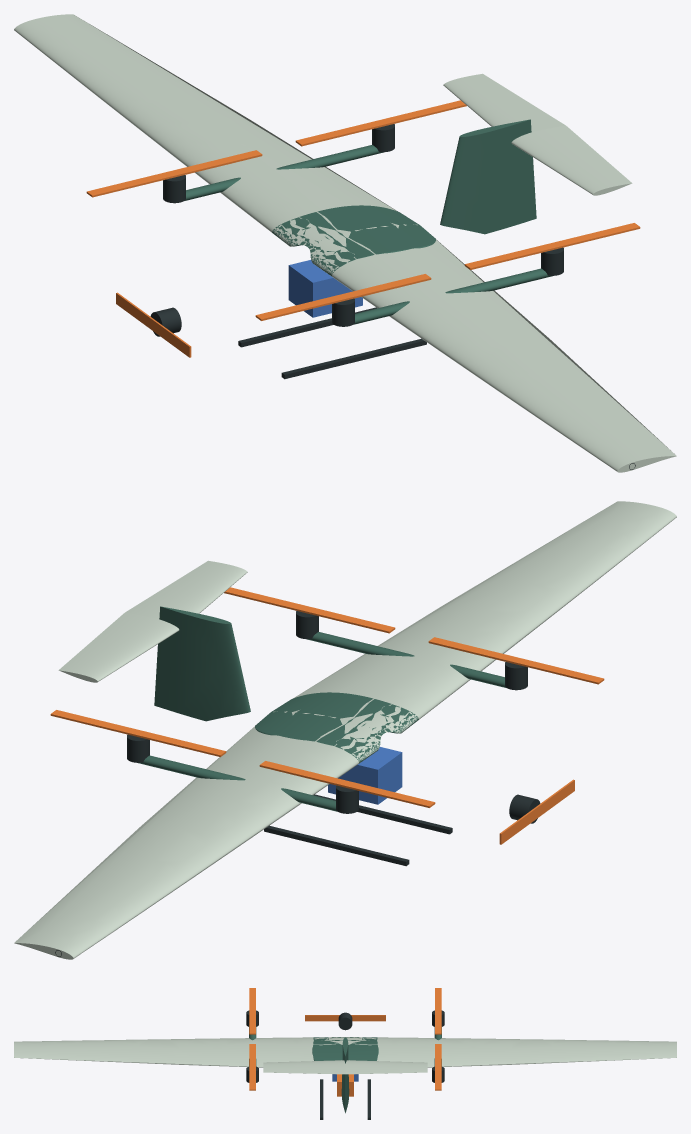
Rendered from surface_tools-02-internal.glb.
3 renders of one model, top to bottom at view 1: azimuth 30°, elevation 25°; view 2: azimuth 150°, elevation 25°; view 3: azimuth 270°, elevation 25°, orthographic. The views are drawn at different scales.
Visible parts, largest first — view 1: wing-1, wing1, fin, tail-1, tail1, root_fairing-1, root_fairing1, payload, boom_fairing-1, boom_fairing1, prop_1_200.0, prop_-1_200.0 (+5 smaller); view 2: wing1, wing-1, fin, tail1, tail-1, root_fairing1, root_fairing-1, payload, boom_fairing1, boom_fairing-1, prop_-1_200.0, prop_1_200.0 (+5 smaller); view 3: wing-1, wing1, tail-1, tail1, root_fairing-1, root_fairing1, cruise_prop, fin, prop_-1_200.0, prop_-1_700.0, prop_1_200.0, prop_1_700.0 (+2 smaller).
Boxes of the visible parts, left/top/right/bottom form: wing-1: left=309, top=225, right=676, bottom=472; wing1: left=14, top=14, right=417, bottom=246; fin: left=440, top=119, right=536, bottom=234; tail-1: left=511, top=125, right=632, bottom=195; tail1: left=443, top=73, right=565, bottom=131; root_fairing-1: left=308, top=225, right=435, bottom=276; root_fairing1: left=272, top=205, right=419, bottom=246; payload: left=288, top=260, right=362, bottom=317; boom_fairing-1: left=353, top=268, right=552, bottom=324; boom_fairing1: left=184, top=145, right=383, bottom=200; prop_1_200.0: left=86, top=150, right=262, bottom=197; prop_-1_200.0: left=255, top=274, right=431, bottom=320; wing1: left=14, top=712, right=381, bottom=959; wing-1: left=273, top=501, right=676, bottom=733; fin: left=154, top=606, right=250, bottom=721; tail1: left=58, top=612, right=179, bottom=682; tail-1: left=125, top=560, right=247, bottom=618; root_fairing1: left=255, top=712, right=382, bottom=763; root_fairing-1: left=271, top=692, right=418, bottom=733; payload: left=328, top=747, right=402, bottom=804; boom_fairing1: left=138, top=755, right=337, bottom=811; boom_fairing-1: left=307, top=632, right=506, bottom=687; prop_-1_200.0: left=428, top=637, right=604, bottom=684; prop_1_200.0: left=259, top=761, right=435, bottom=807; wing-1: left=14, top=1037, right=345, bottom=1067; wing1: left=346, top=1037, right=676, bottom=1067; tail-1: left=263, top=1060, right=345, bottom=1074; tail1: left=345, top=1060, right=427, bottom=1074; root_fairing-1: left=312, top=1037, right=345, bottom=1060; root_fairing1: left=346, top=1037, right=378, bottom=1060; cruise_prop: left=305, top=1015, right=385, bottom=1021; fin: left=341, top=1037, right=349, bottom=1113; prop_-1_200.0: left=249, top=988, right=255, bottom=1034; prop_-1_700.0: left=249, top=1044, right=255, bottom=1090; prop_1_200.0: left=435, top=988, right=441, bottom=1034; prop_1_700.0: left=435, top=1044, right=441, bottom=1090.
Size of the model in its own units: 989 by 405 by 2500.
